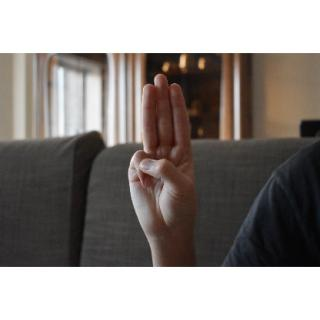THA: (123, 72, 203, 243)
